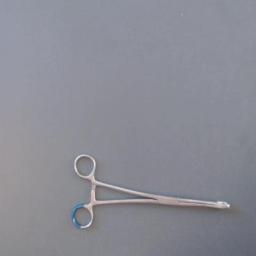Sponge Forceps: (68, 148, 234, 232)
